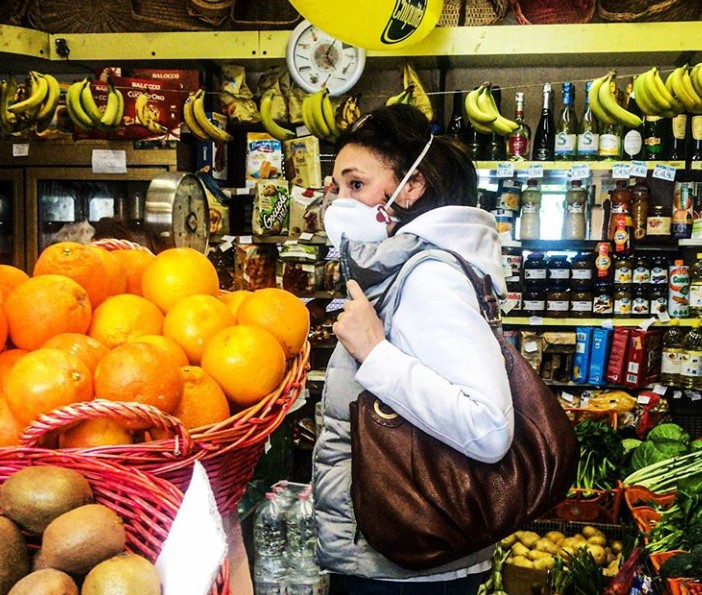face_with_mask: (321, 111, 450, 257)
